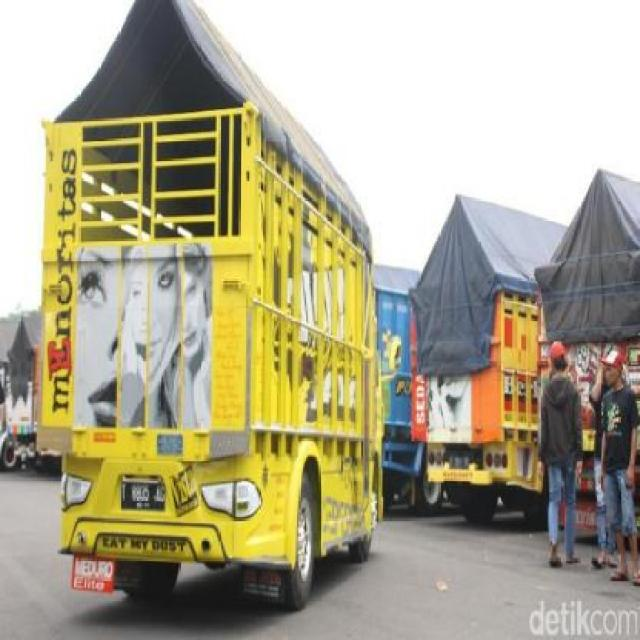truck: (39, 1, 399, 592)
